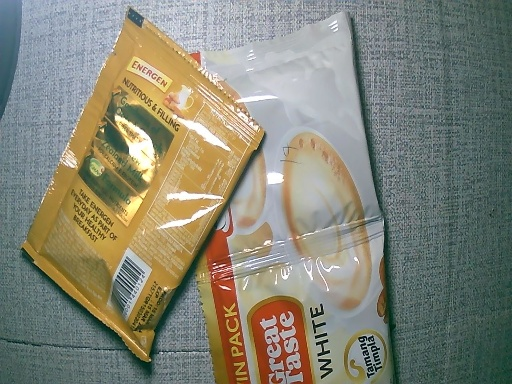plastic: (20, 21, 258, 364), (194, 3, 395, 384)
